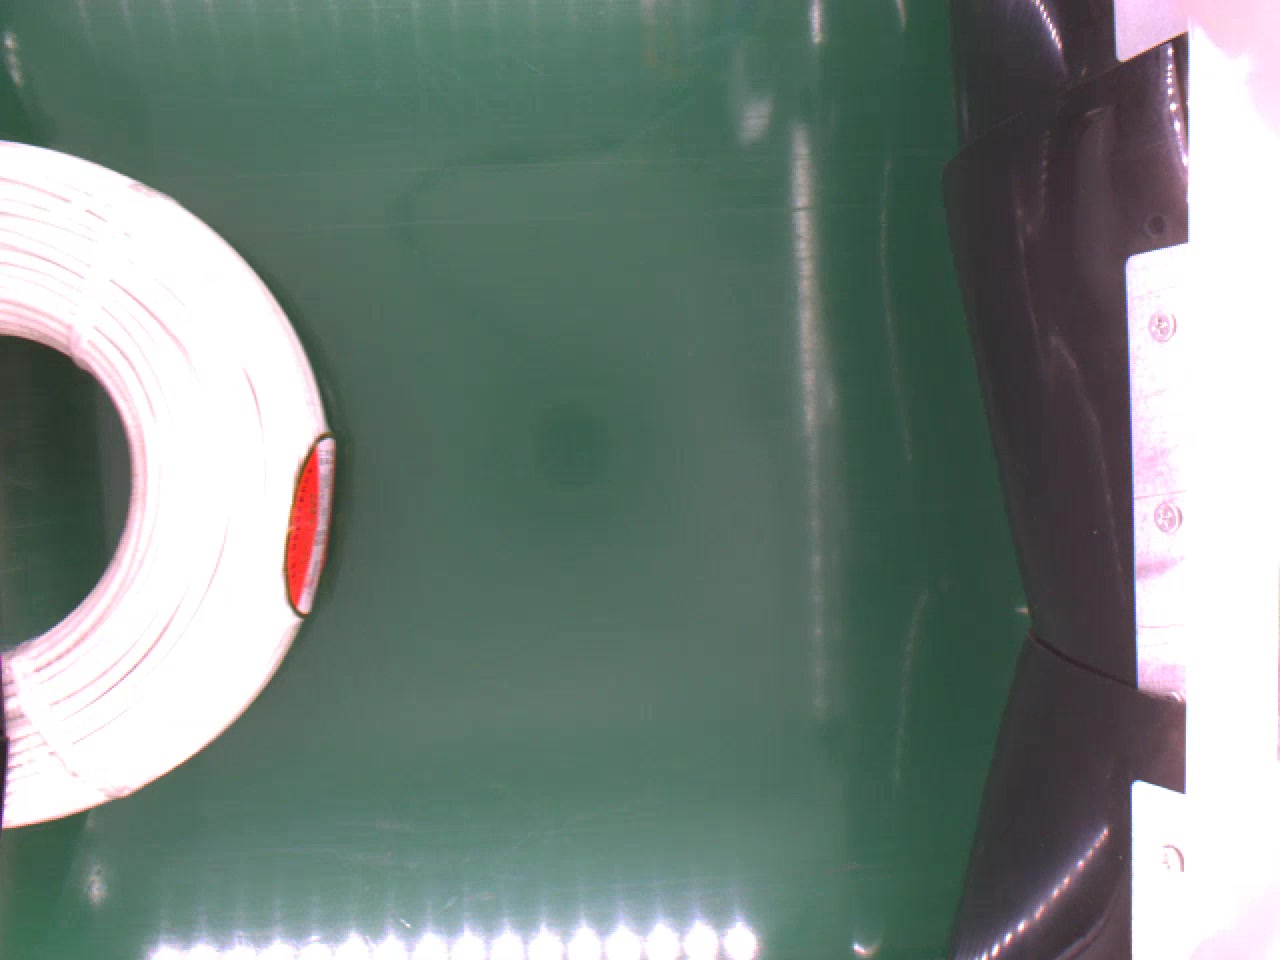white: (0, 136, 332, 831)
